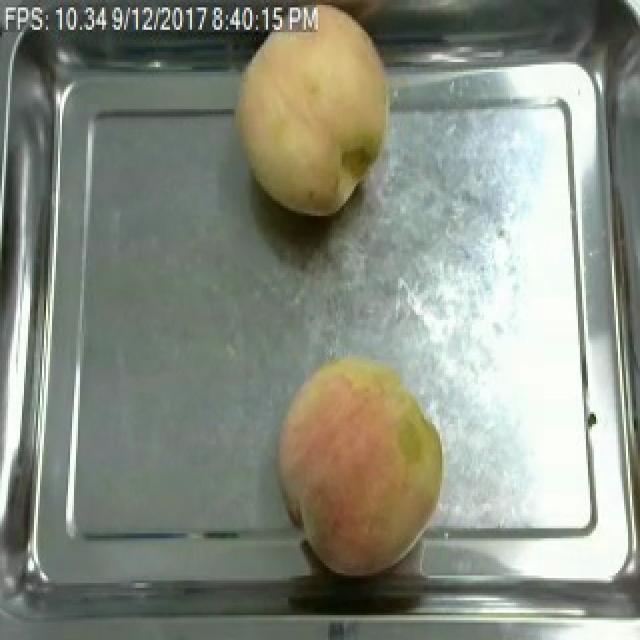Fruit: (268, 345, 452, 583), (228, 2, 404, 226)
